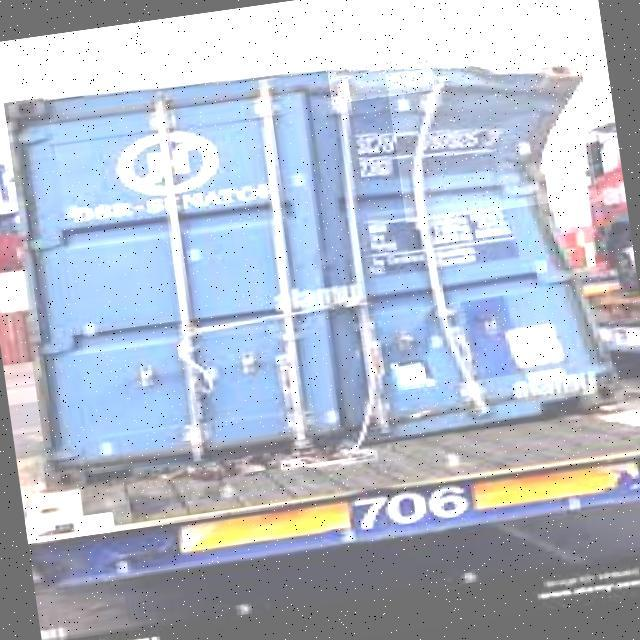Deframe: (386, 48, 598, 223)
Minor-Dent: (327, 56, 435, 104)
